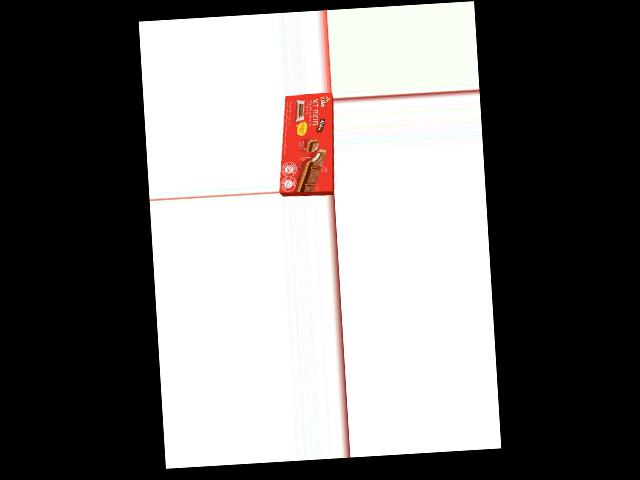chocolate: (279, 91, 334, 196)
